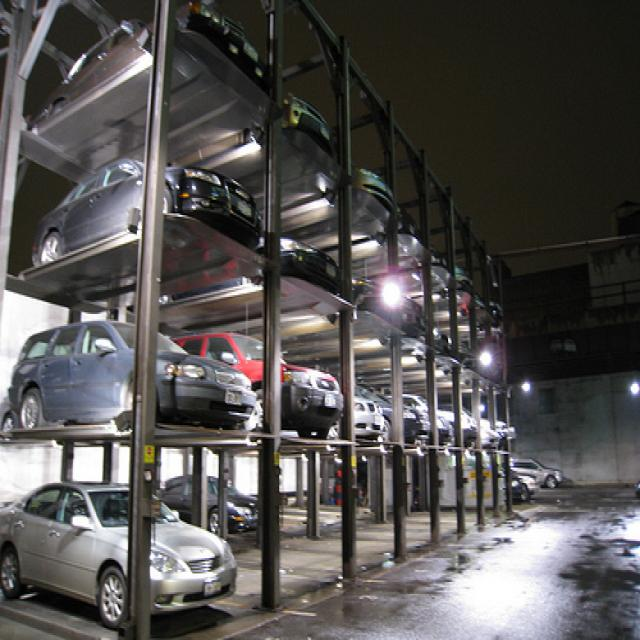Car: (0, 478, 239, 631), (9, 327, 258, 442), (28, 166, 261, 269), (177, 335, 345, 436), (152, 475, 271, 540), (342, 387, 386, 444)
